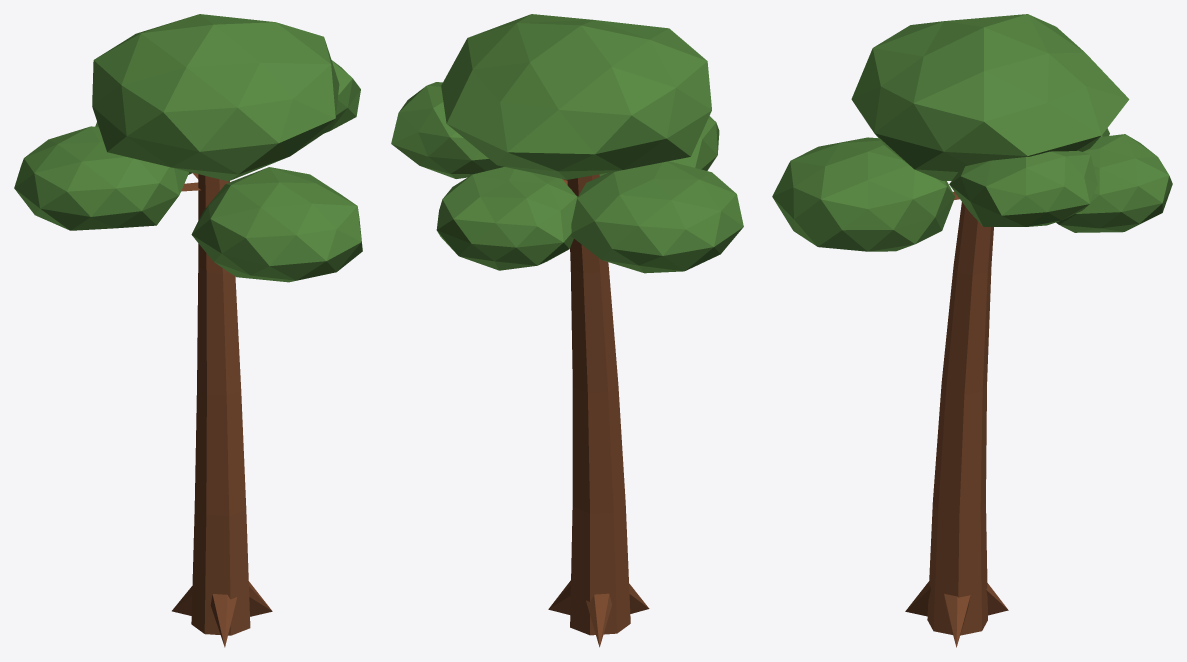
File: pine_c.glb
3 renders of one model, left to right at view 1: azimuth 30°, elevation 25°; view 2: azimuth 150°, elevation 25°; view 3: azimuth 270°, elevation 25°, orthographic. The views are drawn at different scales.
Visible parts, largest first — view 1: pine_c_laub, pine_c_rinde; view 2: pine_c_laub, pine_c_rinde; view 3: pine_c_laub, pine_c_rinde.
Part boxes in pixels (x1,y1,x2,y2): pine_c_laub: [14, 14, 362, 282]; pine_c_rinde: [172, 172, 272, 647]; pine_c_laub: [391, 14, 743, 273]; pine_c_rinde: [548, 174, 649, 647]; pine_c_laub: [772, 14, 1172, 251]; pine_c_rinde: [905, 191, 1008, 647].
Bounding box in the file's own units: 2.43 × 4.24 × 2.58.
